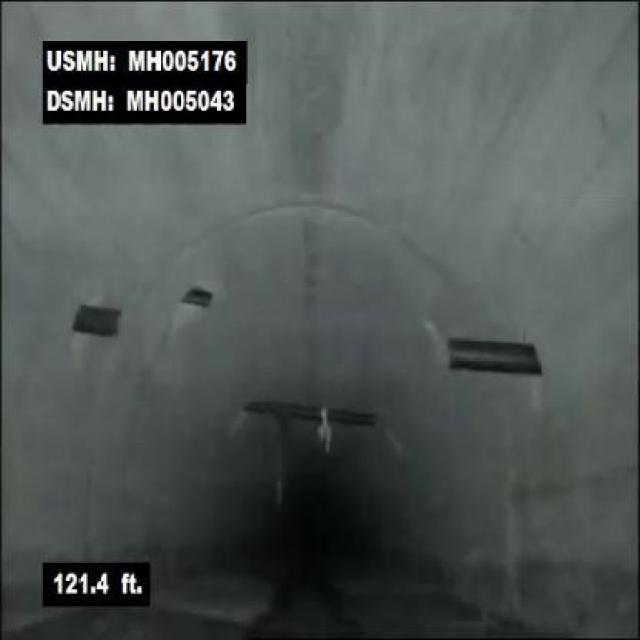Utility intrusion: (444, 332, 550, 383), (59, 295, 130, 343)
